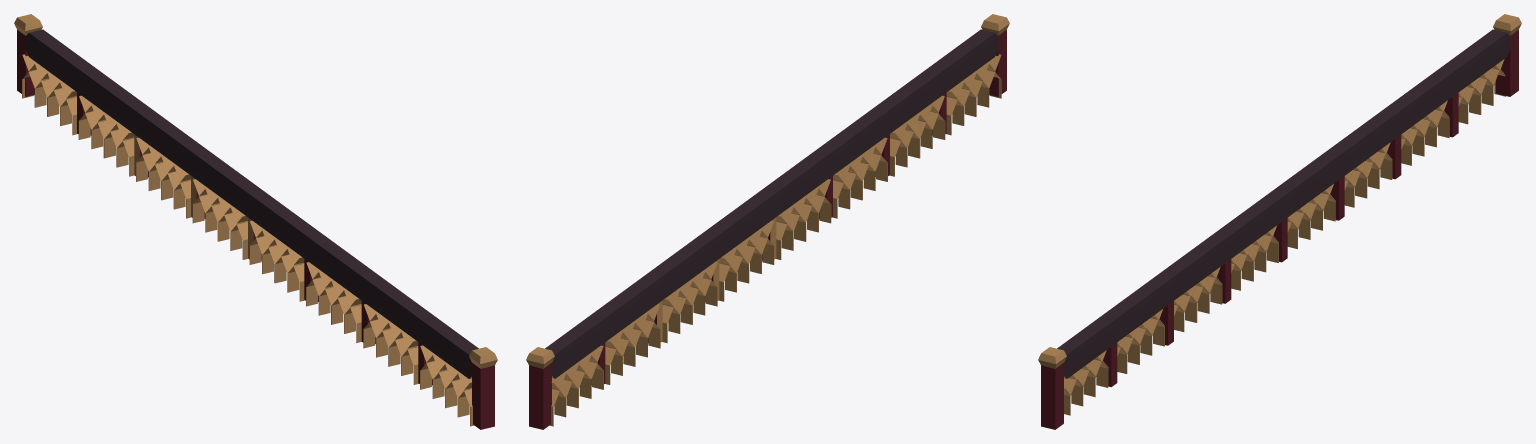
File: LCparapeito.fbx
The picture shows the model from 3 angles, left to right: view 1: azimuth 30°, elevation 25°; view 2: azimuth 150°, elevation 25°; view 3: azimuth 330°, elevation 25°; orthographic projection.
Visible parts, largest first — view 1: Cube; view 2: Cube; view 3: Cube.
Boxes of the visible parts, <box> form: Cube: <box>14,14,497,429</box>; Cube: <box>526,14,1009,429</box>; Cube: <box>1038,14,1521,429</box>.
Bounding box in the file's own units: 79.27 × 303 × 3422.
